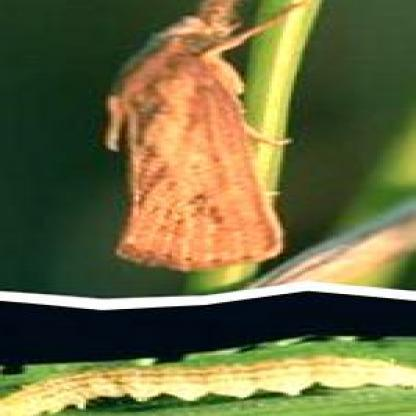stem-borer: (91, 0, 310, 272)
